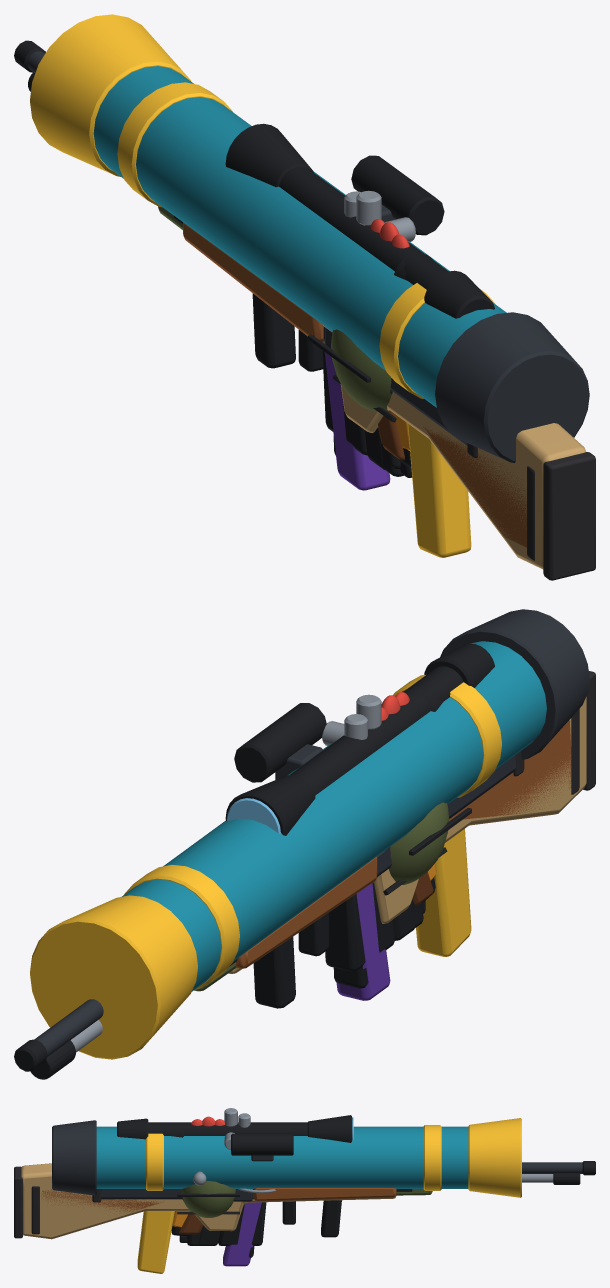
The model's file is guns.glb.
3 renders of one model, top to bottom at view 1: azimuth 30°, elevation 25°; view 2: azimuth 150°, elevation 25°; view 3: azimuth 270°, elevation 25°, orthographic. The views are drawn at different scales.
Visible parts, largest first — view 1: tube, rearBell, bell, stock.003, buttpad.003, mag.004, scopeTube.001, stock.001, sightBox, objective, band1, forend (+10 smaller); view 2: tube, bell, rearBell, scopeTube.001, stock.003, mag.004, stock.001, sightBox, band1, forend, body.001, mag (+16 smaller); view 3: tube, stock.003, bell, rearBell, mag.004, scopeTube.001, forend, sightBox, body.001, mag, band1, band2 (+16 smaller).
Part boxes in pixels (x1,y1,x2,y2): tube: [93, 66, 506, 407]; rearBell: [435, 312, 589, 462]; bell: [30, 14, 191, 176]; stock.003: [322, 341, 586, 569]; buttpad.003: [543, 452, 595, 580]; mag.004: [408, 424, 471, 557]; scopeTube.001: [279, 166, 447, 289]; stock.001: [423, 426, 526, 547]; sightBox: [351, 155, 444, 235]; objective: [225, 123, 313, 187]; band1: [117, 82, 232, 207]; forend: [183, 222, 323, 341]; tube: [121, 641, 546, 991]; bell: [30, 895, 197, 1059]; rearBell: [440, 609, 589, 759]; scopeTube.001: [290, 666, 463, 795]; stock.003: [228, 696, 586, 973]; mag.004: [416, 829, 471, 956]; stock.001: [449, 720, 571, 821]; sightBox: [234, 703, 326, 782]; band1: [124, 865, 239, 989]; forend: [235, 856, 377, 968]; body.001: [389, 802, 449, 884]; mag: [336, 883, 390, 1000]; tube: [96, 1126, 468, 1188]; stock.003: [21, 1163, 396, 1239]; bell: [468, 1118, 521, 1197]; rearBell: [52, 1120, 96, 1195]; mag.004: [137, 1211, 174, 1273]; scopeTube.001: [148, 1122, 307, 1135]; forend: [253, 1188, 396, 1201]; sightBox: [231, 1133, 293, 1155]; body.001: [181, 1181, 235, 1217]; mag: [223, 1202, 261, 1266]; band1: [423, 1125, 441, 1190]; band2: [146, 1133, 163, 1190].
Size of the model in its own units: 0.1946 by 0.3962 by 1.3.
